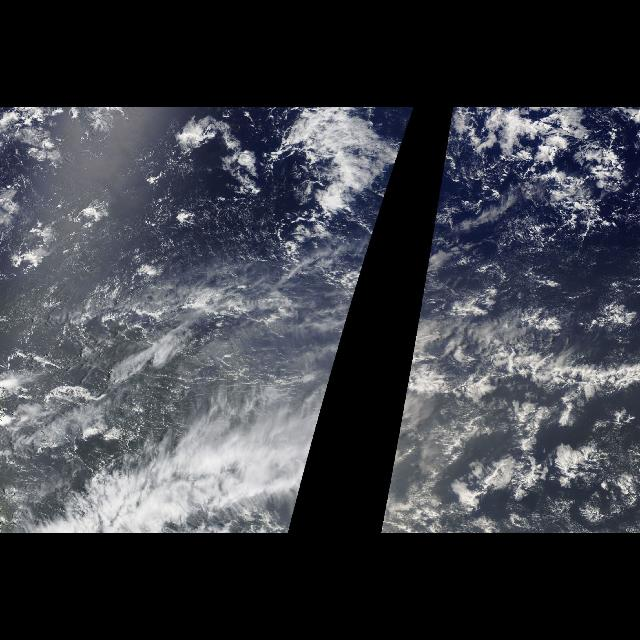Flower: (427, 398, 639, 532)
